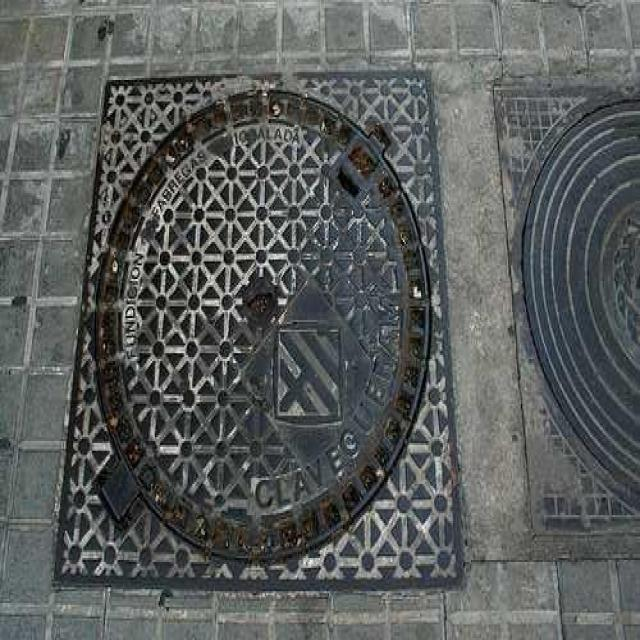manhole: (95, 90, 431, 563), (522, 99, 640, 508)
